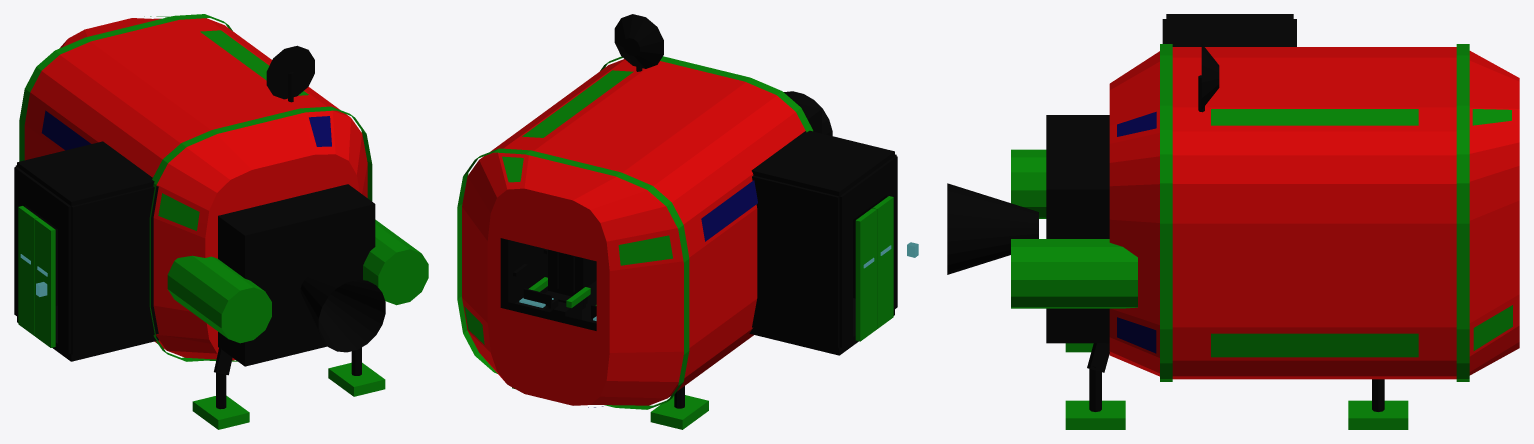
The model's file is firefly.glb.
3 renders of one model, left to right at view 1: azimuth 30°, elevation 25°; view 2: azimuth 150°, elevation 25°; view 3: azimuth 270°, elevation 25°, orthographic. The views are drawn at different scales.
Visible parts, largest first — view 1: pioneer_firefly:pressure_hull_0, pioneer_firefly:drive_pack, pioneer_firefly:room_eva, pioneer_firefly:ceiling_eva, pioneer_firefly:engine_0, pioneer_firefly:habitat_seams_1, pioneer_firefly:inspection_panels_0, pioneer_firefly:door_eva-outer_1, pioneer_firefly:door_eva-outer_-1, pioneer_firefly:gear_2, pioneer_firefly:gear_3; view 2: pioneer_firefly:pressure_hull_0, pioneer_firefly:room_eva, pioneer_firefly:ceiling_eva, pioneer_firefly:inspection_panels_0, pioneer_firefly:habitat_seams_1, pioneer_firefly:room_bridge, pioneer_firefly:door_eva-outer_-1, pioneer_firefly:drive_pack, pioneer_firefly:seat_1, pioneer_firefly:door_eva-outer_1, pioneer_firefly:gear_0, pioneer_firefly:engine_0; view 3: pioneer_firefly:pressure_hull_0, pioneer_firefly:drive_pack, pioneer_firefly:inspection_panels_0, pioneer_firefly:habitat_seams_1, pioneer_firefly:engine_0, pioneer_firefly:ceiling_eva, pioneer_firefly:gear_3, pioneer_firefly:gear_1.
Part boxes in pixels (box(x1,y1,x2,y2)): pioneer_firefly:pressure_hull_0: box(24, 18, 367, 360); pioneer_firefly:drive_pack: box(167, 45, 428, 366); pioneer_firefly:room_eva: box(14, 165, 158, 361); pioneer_firefly:ceiling_eva: box(17, 141, 154, 206); pioneer_firefly:engine_0: box(300, 274, 385, 352); pioneer_firefly:habitat_seams_1: box(19, 14, 372, 361); pioneer_firefly:inspection_panels_0: box(41, 16, 331, 361); pioneer_firefly:door_eva-outer_1: box(34, 218, 55, 347); pioneer_firefly:door_eva-outer_-1: box(18, 206, 38, 335); pioneer_firefly:gear_2: box(192, 370, 249, 429); pioneer_firefly:gear_3: box(328, 347, 385, 396); pioneer_firefly:pressure_hull_0: box(462, 59, 805, 405); pioneer_firefly:room_eva: box(749, 154, 897, 355); pioneer_firefly:ceiling_eva: box(751, 130, 894, 196); pioneer_firefly:inspection_panels_0: box(464, 70, 757, 407); pioneer_firefly:habitat_seams_1: box(457, 56, 813, 409); pioneer_firefly:room_bridge: box(500, 238, 596, 330); pioneer_firefly:door_eva-outer_-1: box(855, 208, 876, 341); pioneer_firefly:drive_pack: box(614, 14, 821, 133); pioneer_firefly:seat_1: box(528, 249, 590, 319); pioneer_firefly:door_eva-outer_1: box(872, 196, 893, 328); pioneer_firefly:gear_0: box(650, 386, 708, 429); pioneer_firefly:engine_0: box(783, 91, 832, 135); pioneer_firefly:pressure_hull_0: box(1109, 47, 1519, 379); pioneer_firefly:drive_pack: box(1011, 43, 1219, 343); pioneer_firefly:inspection_panels_0: box(1117, 109, 1512, 357); pioneer_firefly:habitat_seams_1: box(1160, 44, 1469, 381); pioneer_firefly:engine_0: box(947, 183, 1038, 274); pioneer_firefly:ceiling_eva: box(1166, 14, 1293, 46); pioneer_firefly:gear_3: box(1065, 364, 1125, 429); pioneer_firefly:gear_1: box(1348, 379, 1408, 429).
Size of the model in its own units: 6.25 by 5.65 by 8.1.
